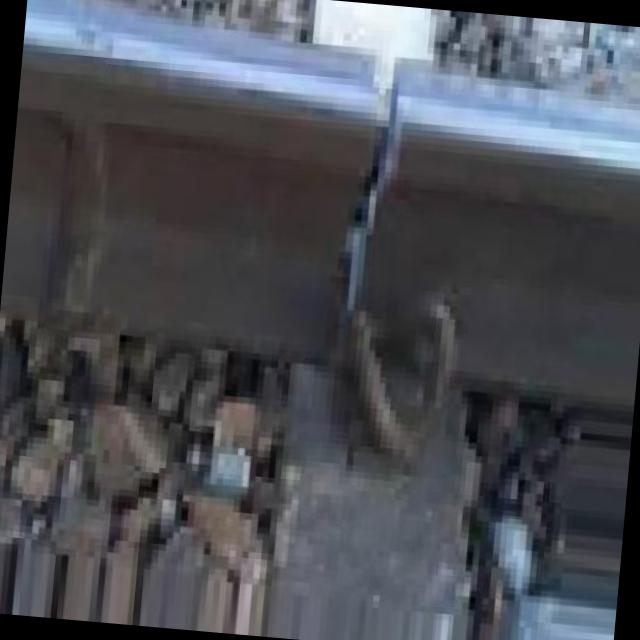defective: (41, 6, 636, 526)
